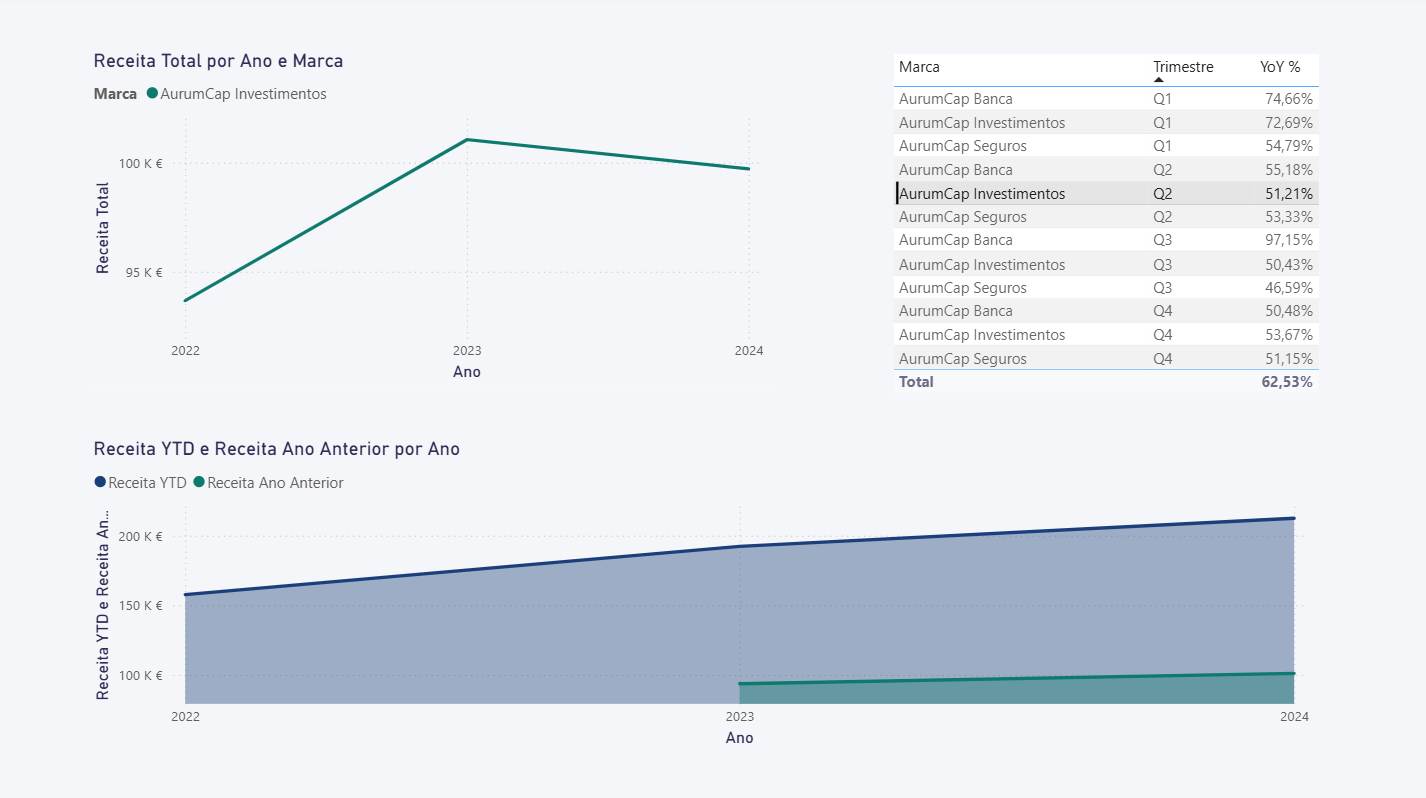

What the dashboard file says about the page in this screenshot:
{"tool":"powerbi","page":{"name":"Tendências & Crescimento","canvas":[1280,720],"ordinal":2},"visuals":[{"type":"areaChart","fields":{"Category":["Calendário.Date.Variação.Hierarquia de Datas.Ano","Calendário.Date.Variação.Hierarquia de Datas.Trimestre","Calendário.Date.Variação.Hierarquia de Datas.Mês","Calendário.Date.Variação.Hierarquia de Datas.Dia"],"Y":["Calendário.Receita YTD","Calendário.Receita Ano Anterior"]},"box":[85.1,393.8,1092.3,279.9],"z":0},{"type":"lineChart","fields":{"Category":["Calendário.Date.Variação.Hierarquia de Datas.Ano","Calendário.Date.Variação.Hierarquia de Datas.Trimestre","Calendário.Date.Variação.Hierarquia de Datas.Mês","Calendário.Date.Variação.Hierarquia de Datas.Dia"],"Y":["Calendário.Receita Total"],"Series":["marcas.nome"]},"box":[85.1,48,606.5,300.5],"z":1000},{"type":"tableEx","fields":{"Values":["marcas.nome","Calendário.Trimestre","Calendário.YoY %"]},"box":[795.9,48,410.3,322.5],"z":2000}]}

Visuals, with their boxes in screenshot pixels (x1, y1, x2, y2), scaled from the page's 1280x720 canvas onto the 1426x798 screenshot:
areaChart - Calendário.Date.Variação.Hierarquia de Datas.Ano x Calendário.Date.Variação.Hierarquia de Datas.Trimestre: 95/436/1312/747
lineChart - Calendário.Date.Variação.Hierarquia de Datas.Ano x Calendário.Date.Variação.Hierarquia de Datas.Trimestre: 95/53/770/386
tableEx - marcas.nome x Calendário.Trimestre: 887/53/1344/411
